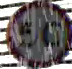Speed limit: (6, 0, 71, 66)
